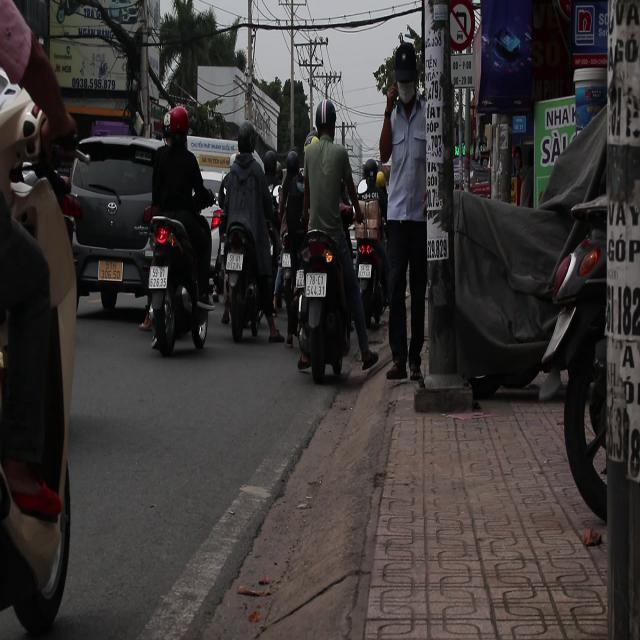car: (66, 134, 162, 318)
motorbike: (139, 214, 211, 358), (300, 224, 350, 380), (222, 208, 264, 350)
